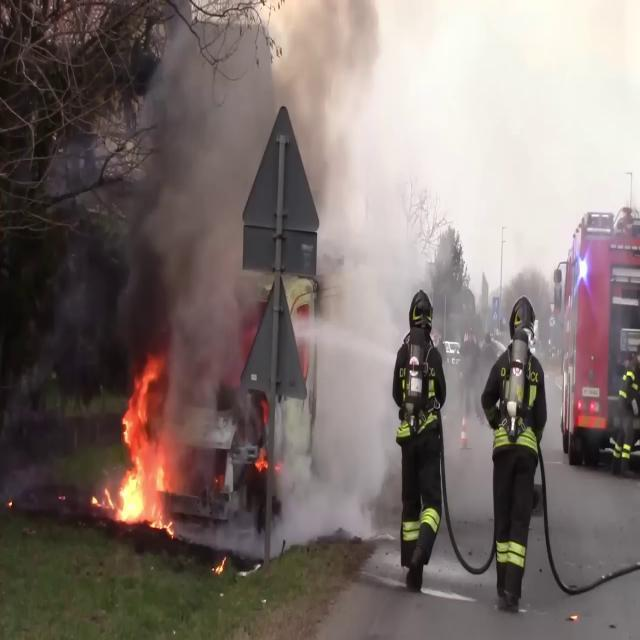Fire: (100, 359, 178, 539)
Smoke: (95, 0, 378, 387), (262, 288, 416, 558)
